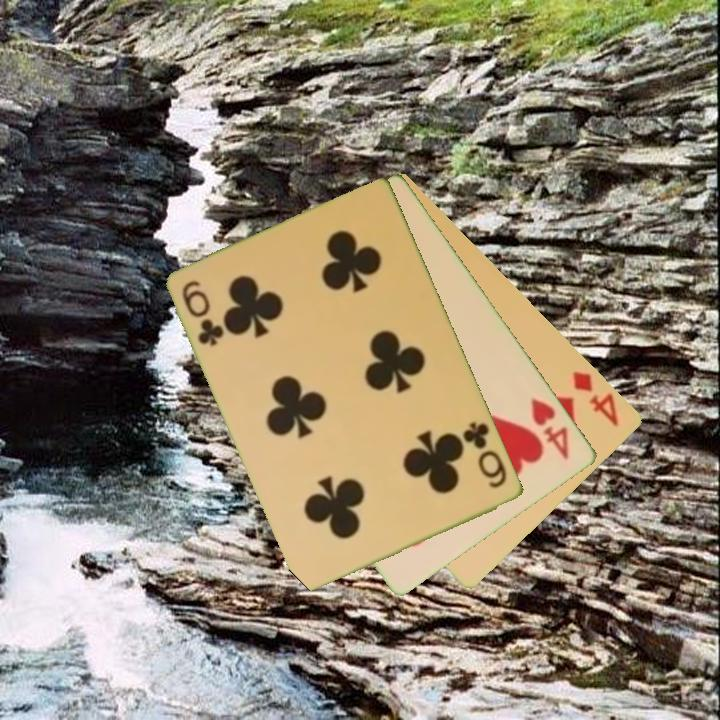4d: (569, 367, 622, 430)
4h: (527, 394, 573, 463)
6c: (459, 418, 511, 492), (179, 276, 228, 350)
